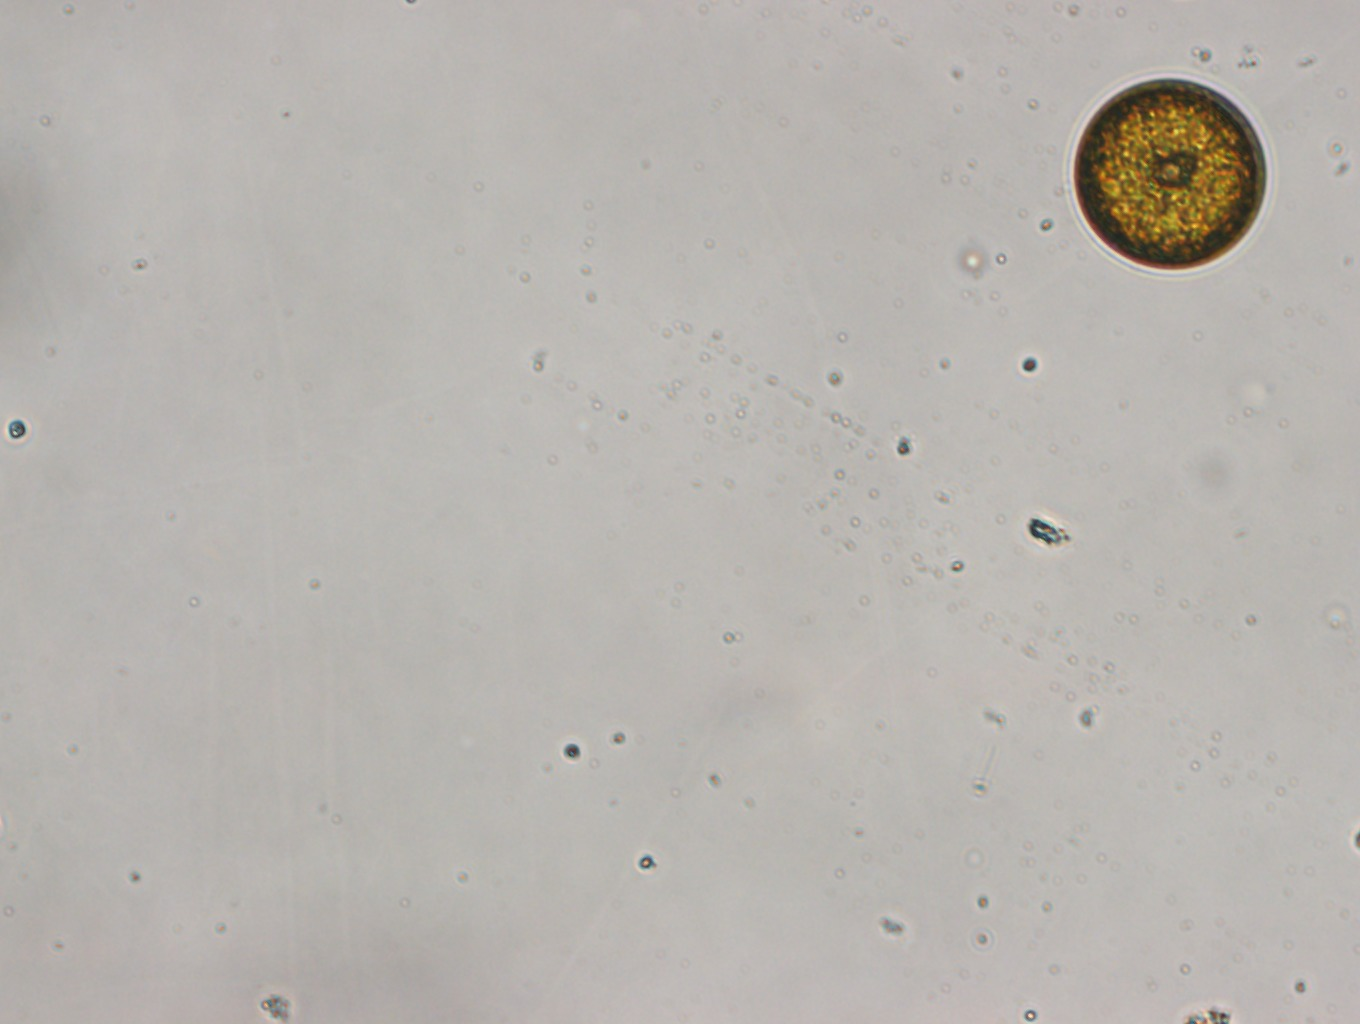coscinodiscus: (1068, 72, 1270, 276)
